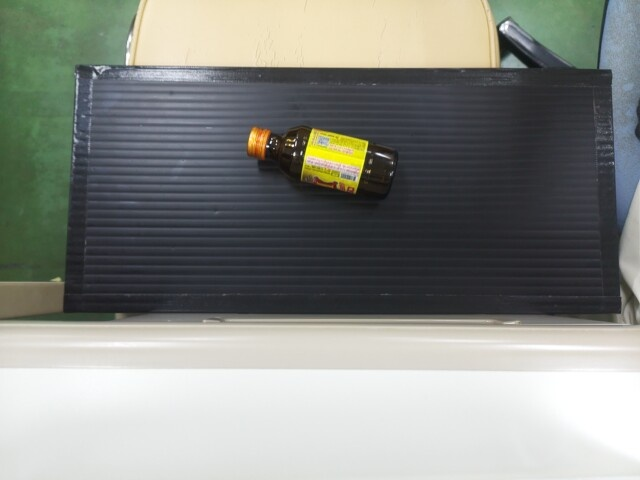glass_bottle: (242, 121, 396, 202)
